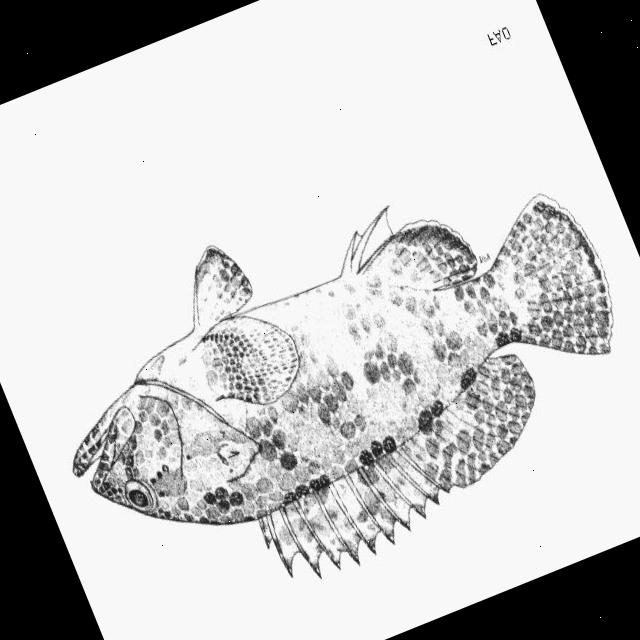ikan: (12, 111, 640, 640)
